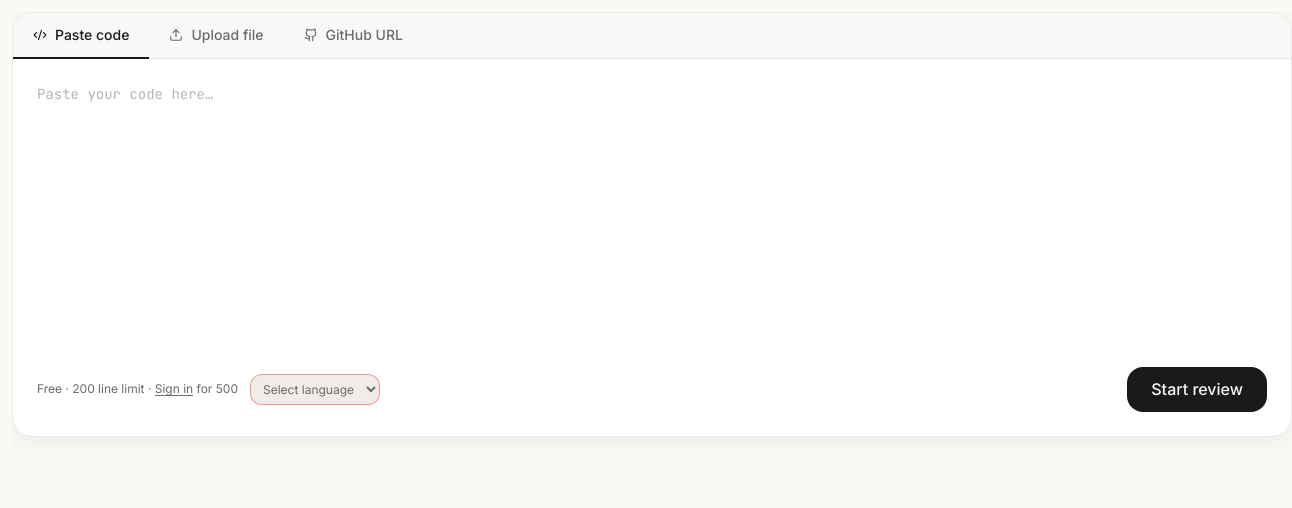
Scenario: InputPanel — language validation › shows error when submitting without selecting a language
Type "def foo(): pass" into the text box with placeholder "Paste your code here…" at [652, 211], box [37,83,1267,339]
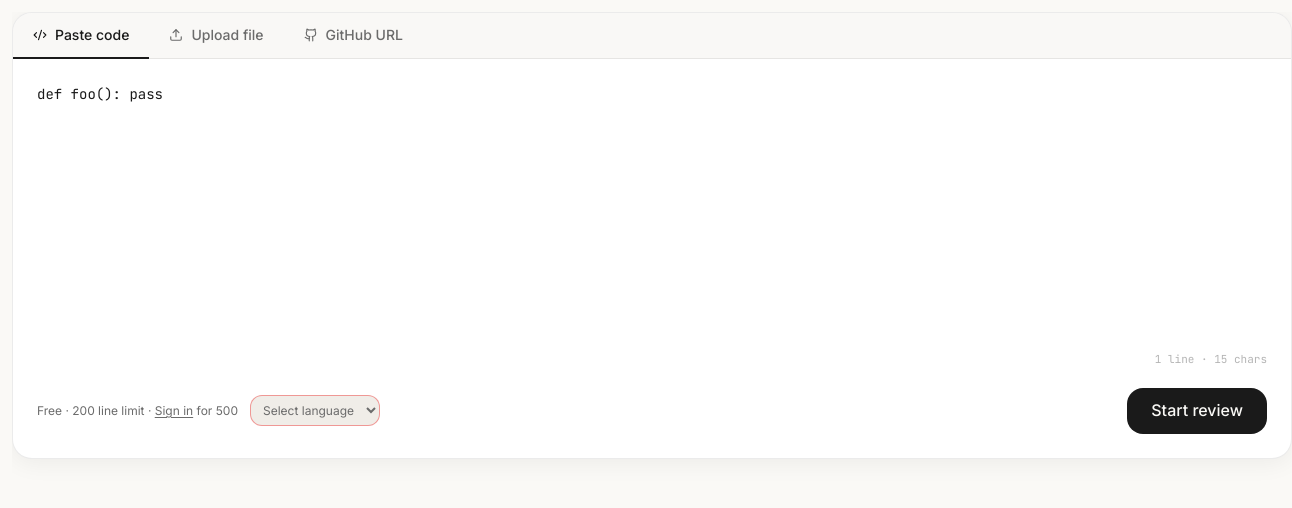
Click the button "Start review" at [1197, 411], box [1127,388,1267,434]
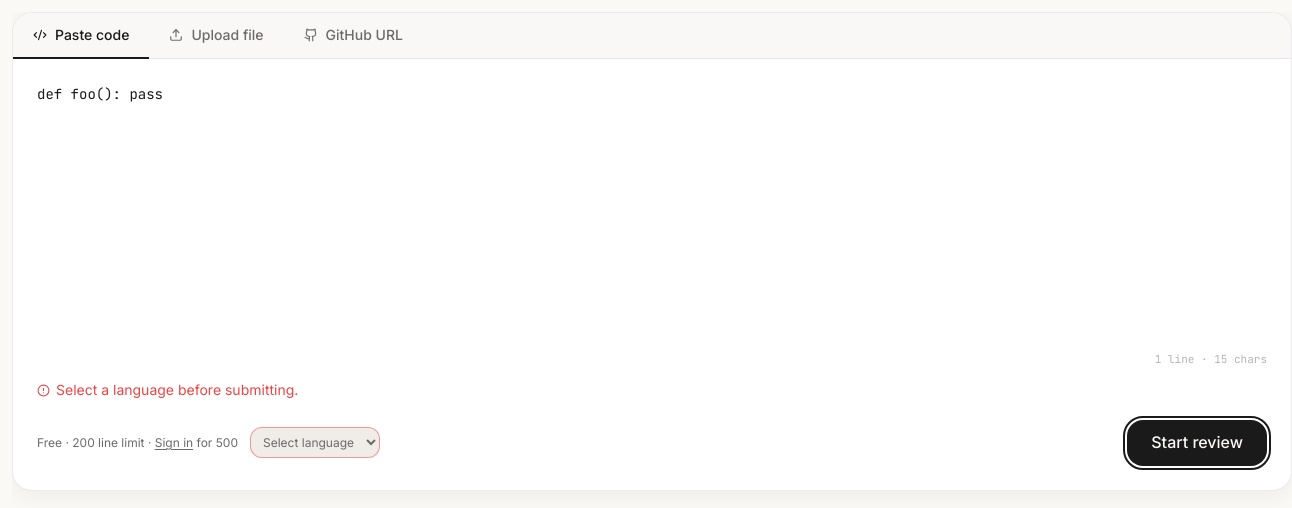
Check: the text "Select a language before submitting." is shown, box [37,381,298,398]
